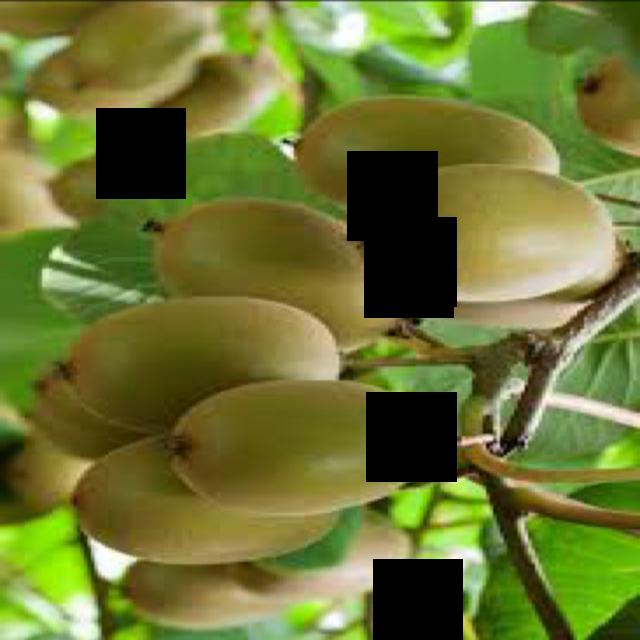kiwi: (151, 199, 421, 358), (284, 99, 568, 229), (351, 166, 621, 301), (169, 383, 428, 521), (54, 297, 348, 416), (74, 441, 344, 567)
